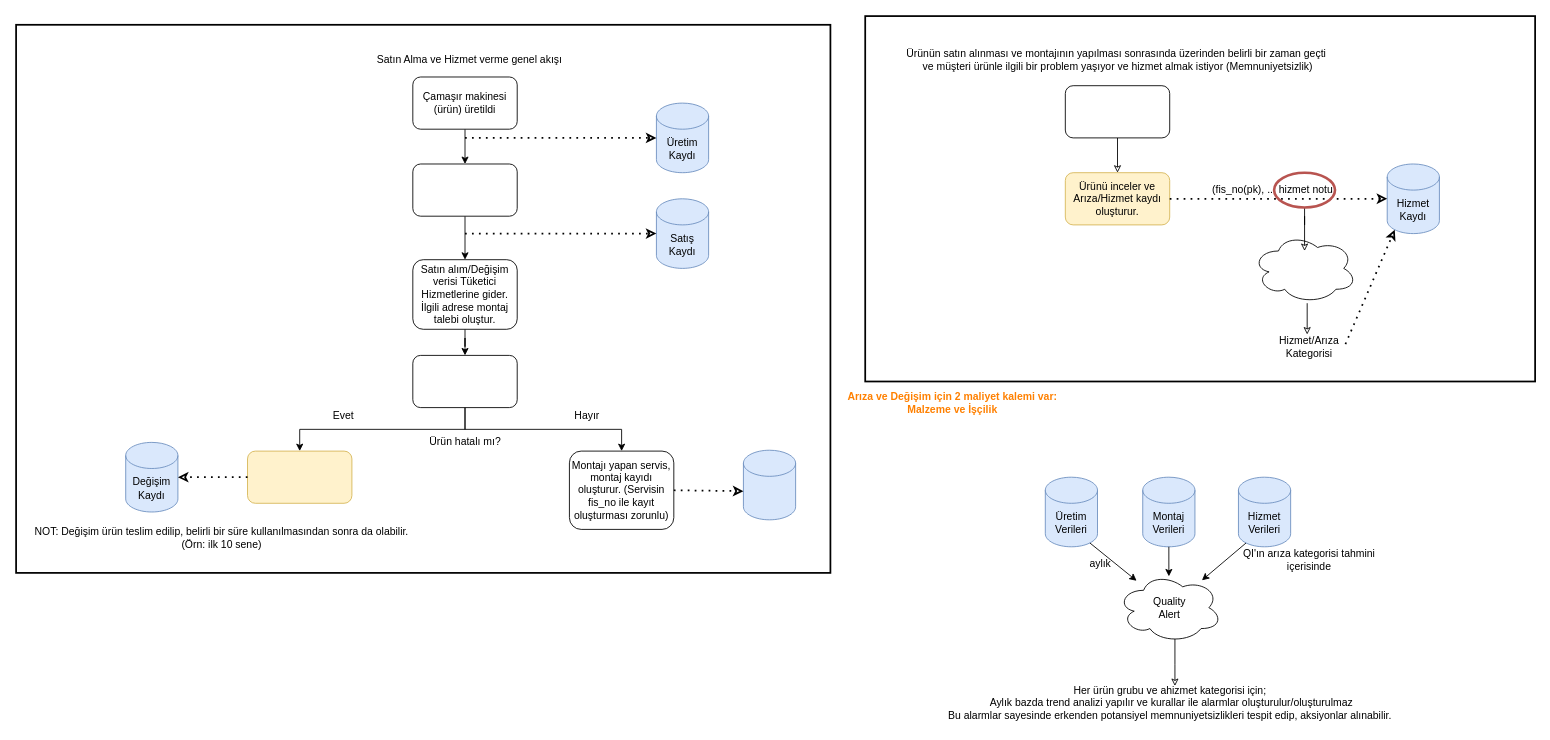
This 1550x740 diagram has some shape labels left out. The box of each missing label's shape, as (x1, y1, x2, y2) in pixels:
İlgili adrese servis gider. Ürünü kurar, çalıştırır.: (412, 355, 517, 408)
Montaj Kaydı: (743, 449, 796, 520)
Quality Intelligence: (1251, 233, 1357, 303)
Servis hatalı ürün için Değişim Kaydı oluşturur. Yeni ürün süreç: (247, 450, 352, 503)
Servis müşterinin evine gider: (1064, 85, 1170, 138)
Ürün bayi veya internet sitesi üzerinden satın alındı: (412, 163, 517, 216)
